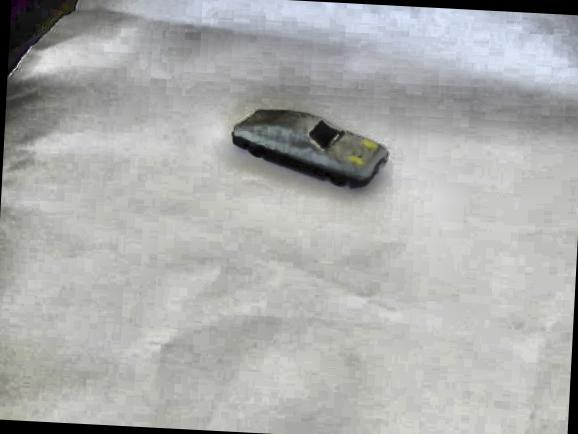normal_car: (225, 103, 392, 191)
